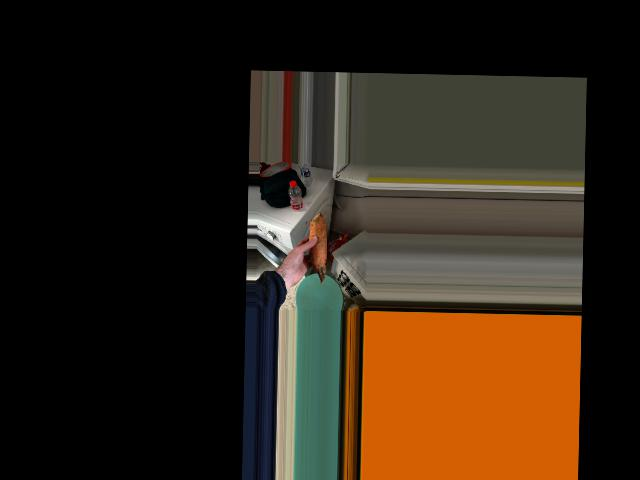sweet_potato: (303, 217, 328, 284)
